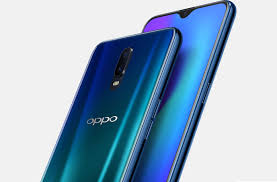oppo: (36, 19, 182, 182)
